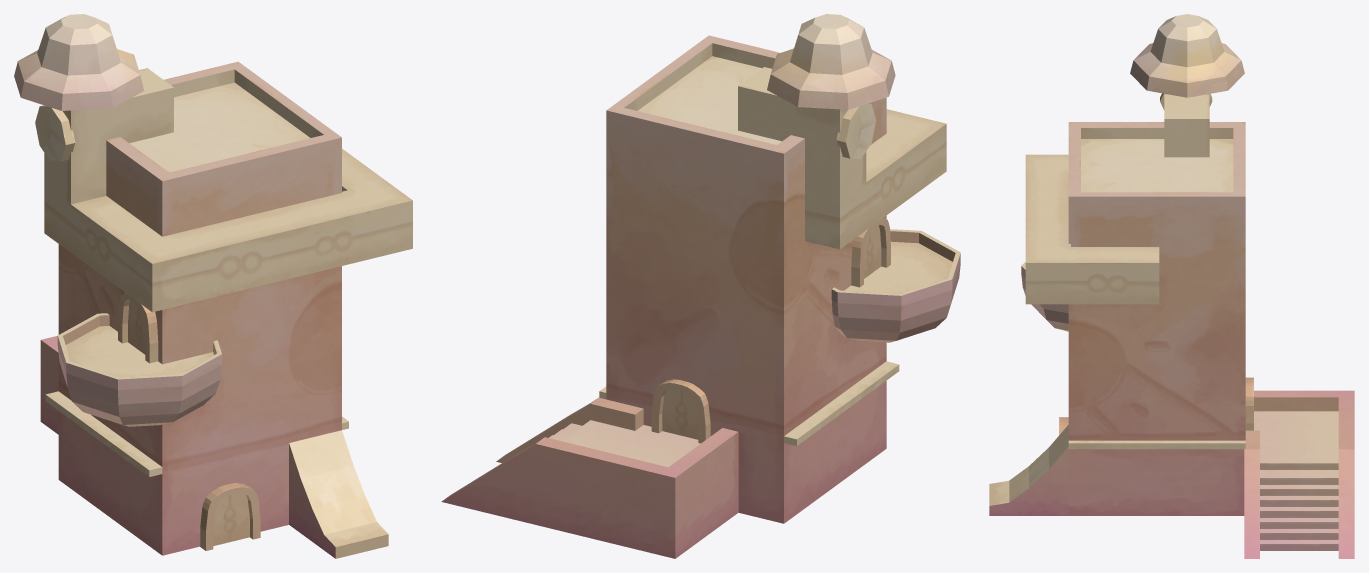
Rendered from building_a.fbx.
3 views of the same model, side by side, from view 1: azimuth 30°, elevation 25°; view 2: azimuth 150°, elevation 25°; view 3: azimuth 270°, elevation 25° (orthographic). The views are drawn at different scales.
Parts seen in each view (by area): view 1: Cube.001; view 2: Cube.001; view 3: Cube.001.
Part boxes in pixels (left/top/right/bottom): Cube.001: left=14, top=14, right=412, bottom=558; Cube.001: left=441, top=14, right=960, bottom=558; Cube.001: left=989, top=14, right=1354, bottom=558.
Bounding box in the file's own units: 1942 × 2481 × 1979.
